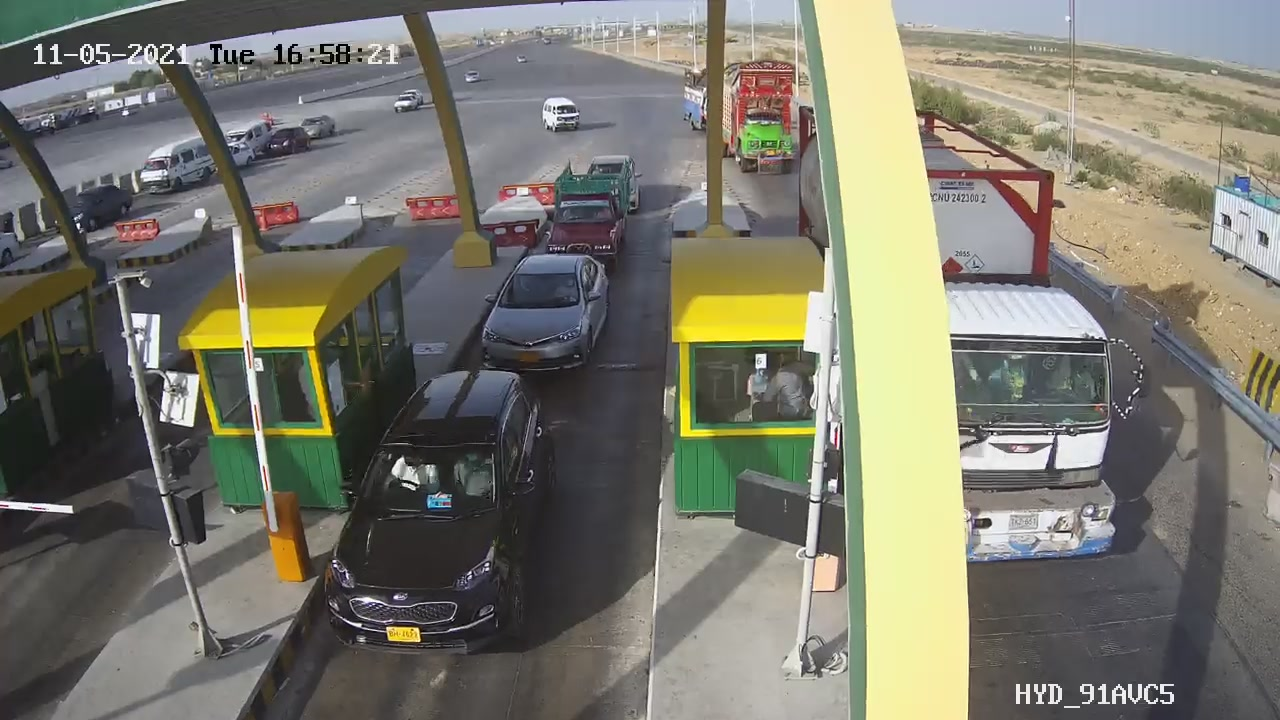F1: (470, 240, 624, 388)
